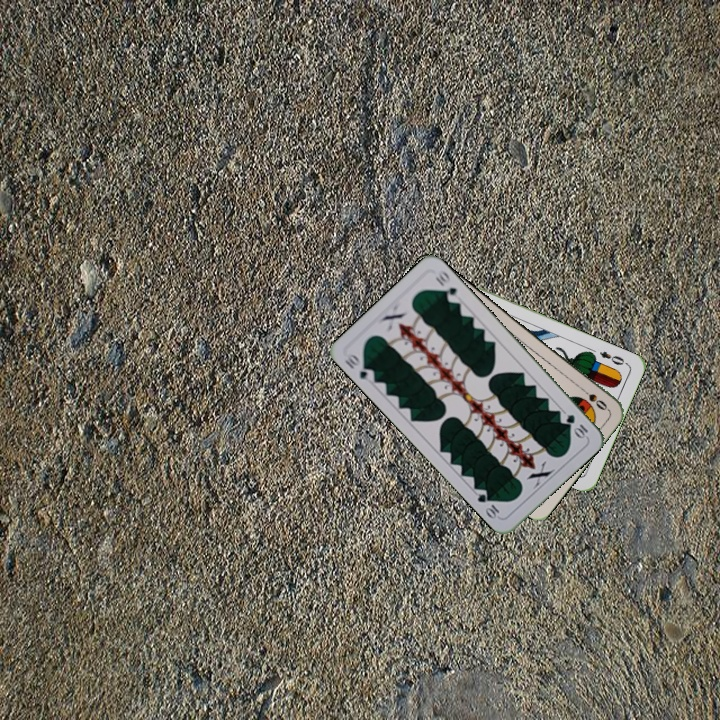EO: (595, 347, 630, 368)
G10: (341, 349, 377, 385), (562, 410, 591, 441)
SO: (576, 383, 611, 413)
